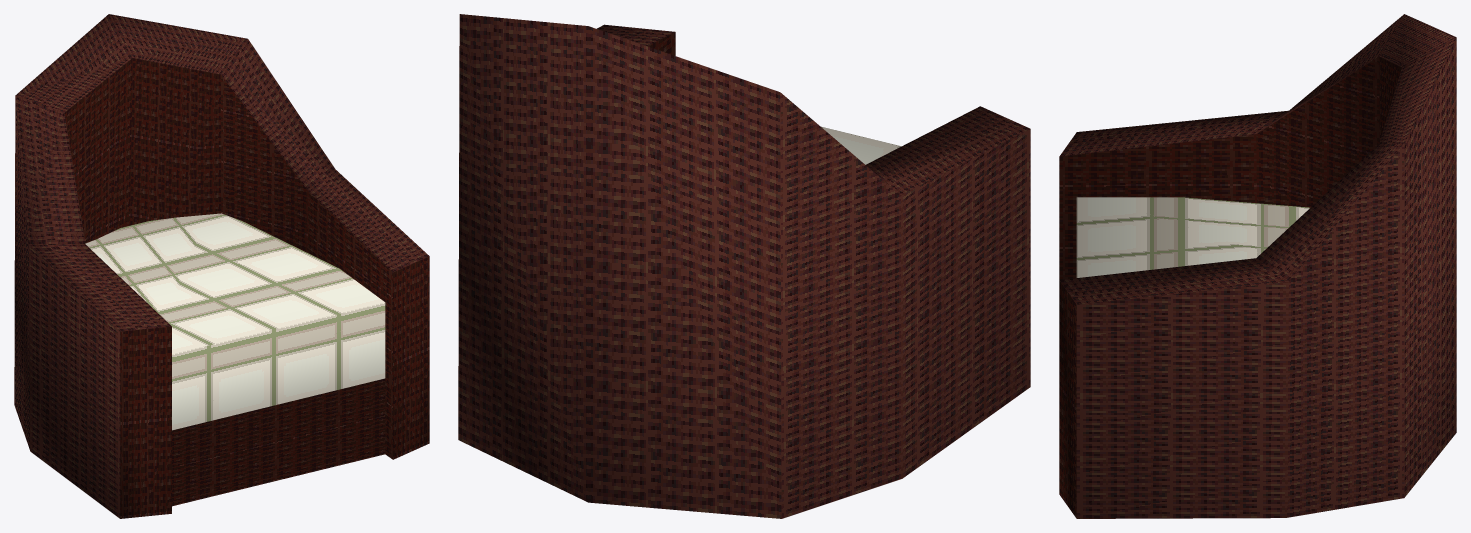
The model's file is 3052IMRL03_03.gltf.
3 views of the same model, side by side, from view 1: azimuth 30°, elevation 25°; view 2: azimuth 150°, elevation 25°; view 3: azimuth 270°, elevation 25° (orthographic). The views are drawn at different scales.
Visible parts, largest first — view 1: 3052IMRL03_03; view 2: 3052IMRL03_03; view 3: 3052IMRL03_03.
Boxes of the visible parts, x1=… form: 3052IMRL03_03: x1=14, y1=14, x2=429, y2=518; 3052IMRL03_03: x1=458, y1=14, x2=1030, y2=518; 3052IMRL03_03: x1=1059, y1=14, x2=1456, y2=518.
Bounding box in the file's own units: 0.9385 × 1 × 0.9131.
3 materials, 3 textured.
